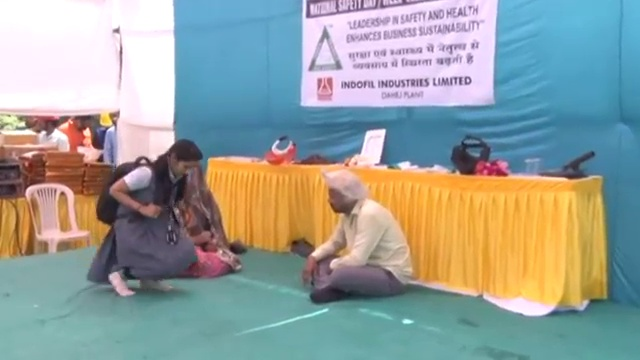helmet_off: (324, 169, 365, 214), (165, 137, 203, 178)
person: (93, 136, 201, 298), (302, 168, 413, 306), (173, 166, 244, 274), (59, 113, 95, 162), (38, 112, 71, 155), (103, 112, 121, 167)
